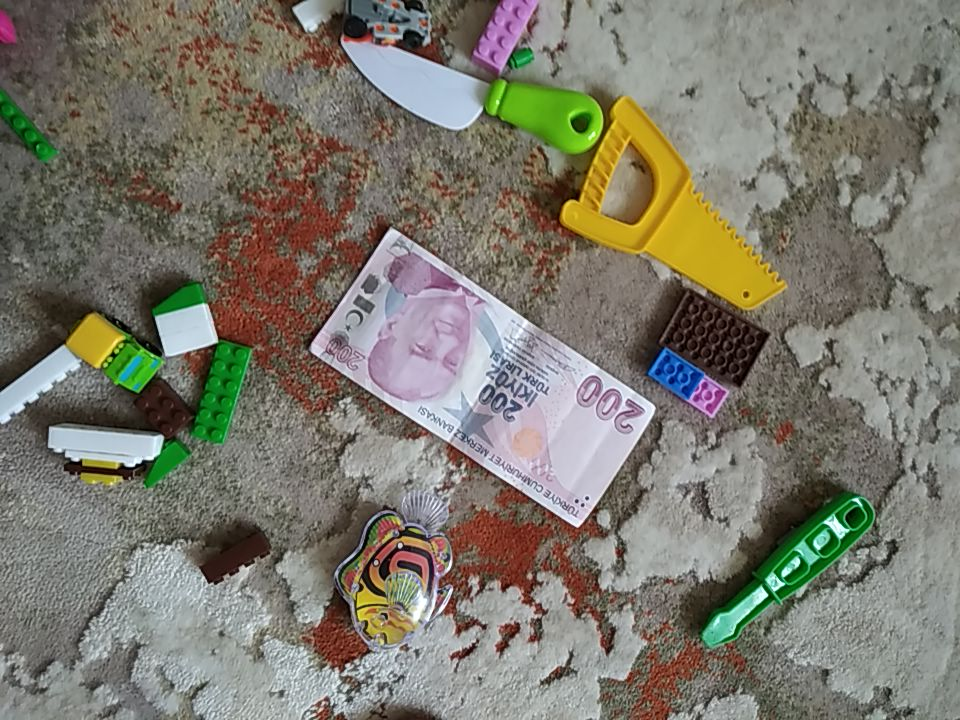200TL: (304, 226, 656, 529)
